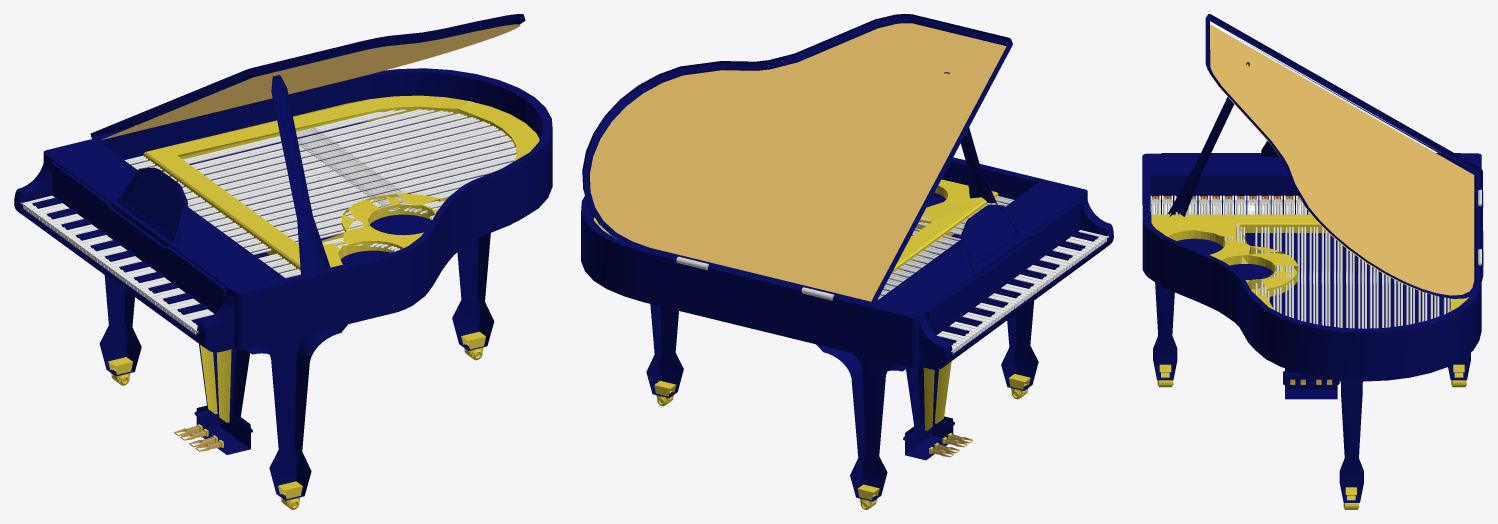
Rendered from grand_piano.glb.
3 renders of one model, left to right at view 1: azimuth 30°, elevation 25°; view 2: azimuth 150°, elevation 25°; view 3: azimuth 270°, elevation 25°, orthographic. The views are drawn at different scales.
Parts seen in each view (by area): view 1: Cube_1, Cube.012_2, Cube.013_3; view 2: Cube_1, Cube.012_2, Cube.013_3; view 3: Cube_1, Cube.015_4.
Part boxes in pixels (x1,y1,x2,y2): Cube_1: [14, 14, 552, 509]; Cube.012_2: [20, 195, 213, 335]; Cube.013_3: [32, 197, 213, 325]; Cube_1: [581, 14, 1113, 509]; Cube.012_2: [937, 230, 1108, 353]; Cube.013_3: [938, 231, 1098, 345]; Cube_1: [1142, 14, 1483, 509]; Cube.015_4: [1150, 195, 1309, 214].
Bounding box in the file's own units: 2.3 × 2.04 × 1.72.
